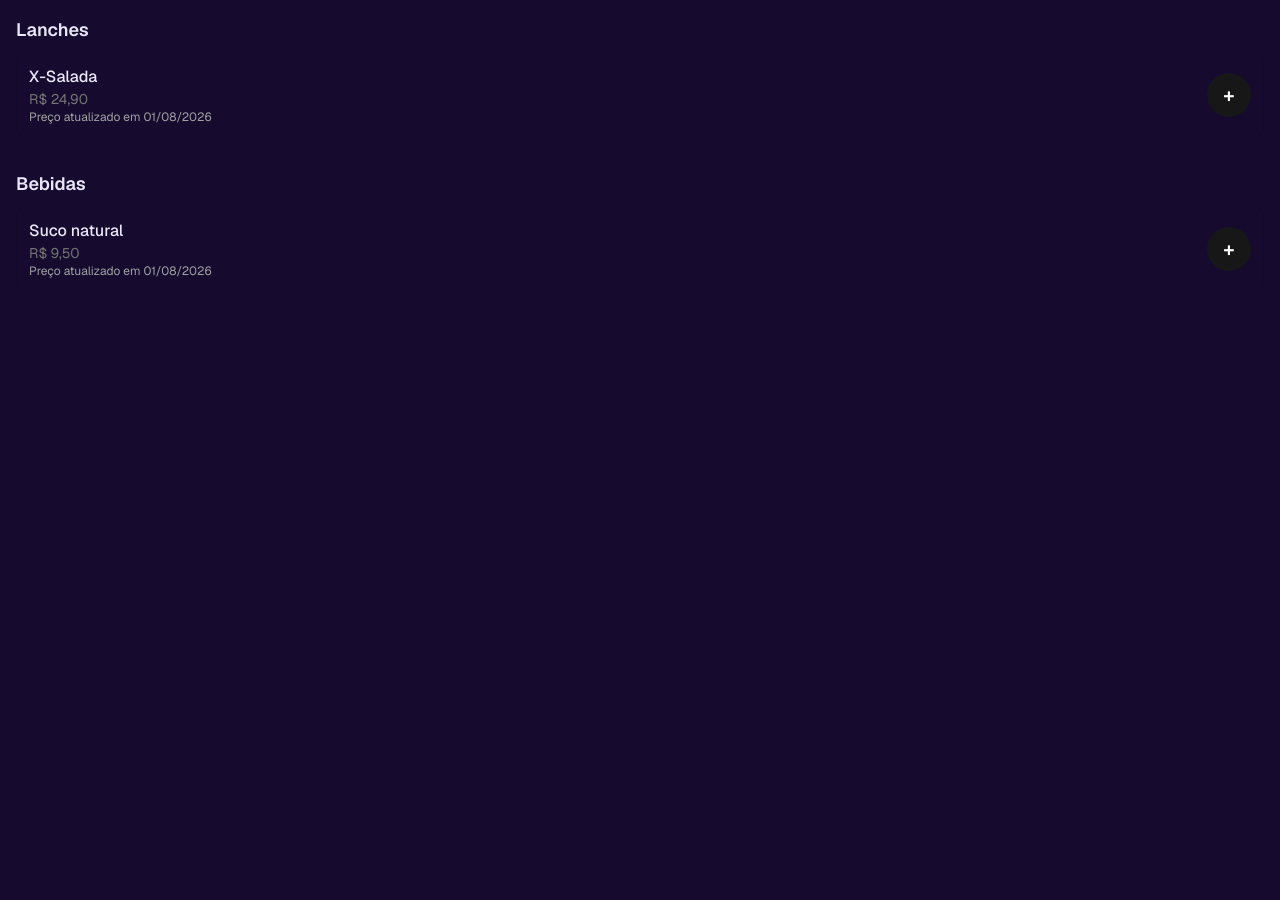
it: CardapioClient › remover até zero volta a mostrar o botão '+' e some da barra de resumo
The width and height of the screenshot is (1280, 900).
What coordinates should you click on to do the following:
click the button named "Adicionar X-Salada"
I would click on:
 (1229, 95)
Its box is [1207,73,1251,117].
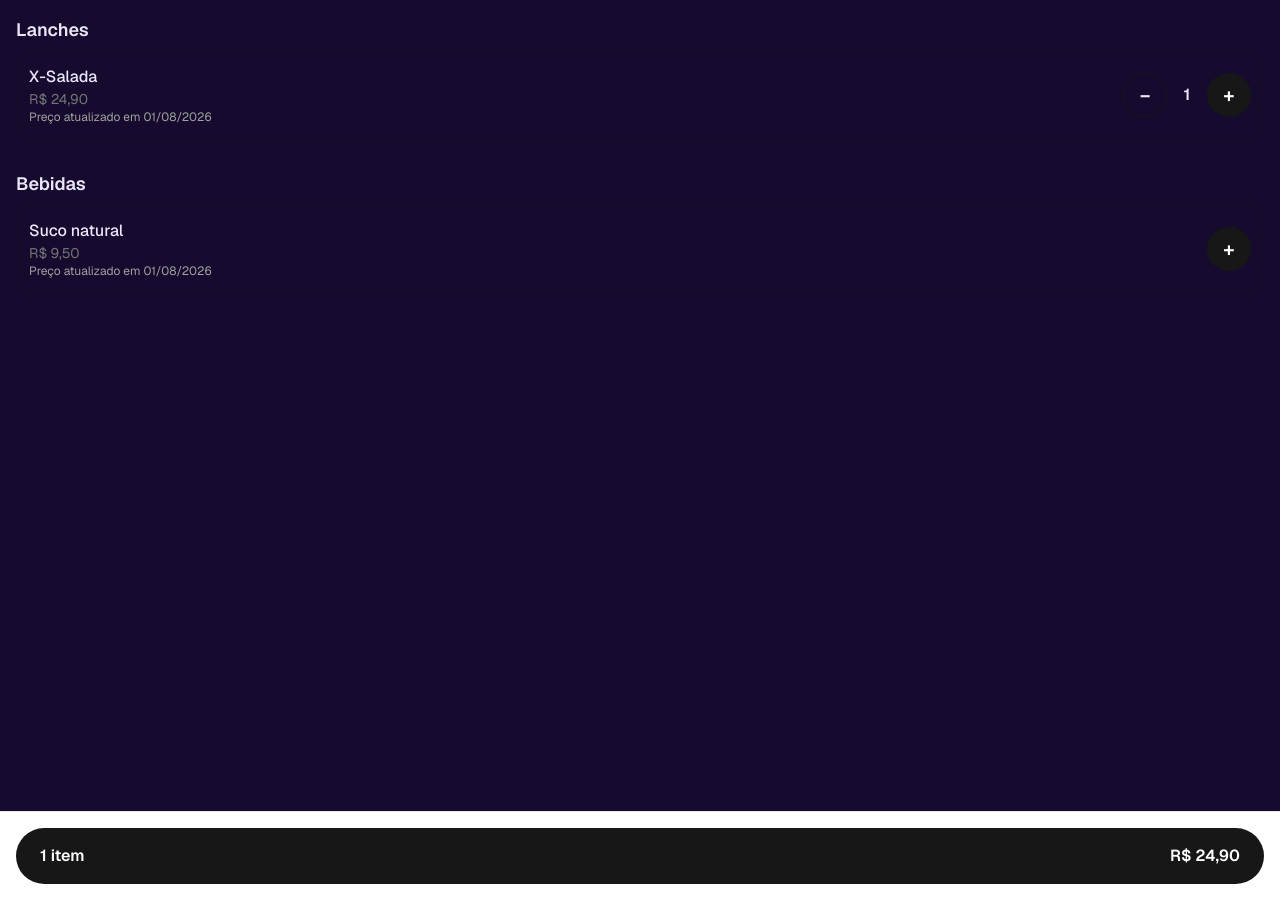
What coordinates should you click on to do the following:
click the button named "Remover X-Salada"
I would click on:
 (1145, 95)
Its box is [1123,73,1167,117].
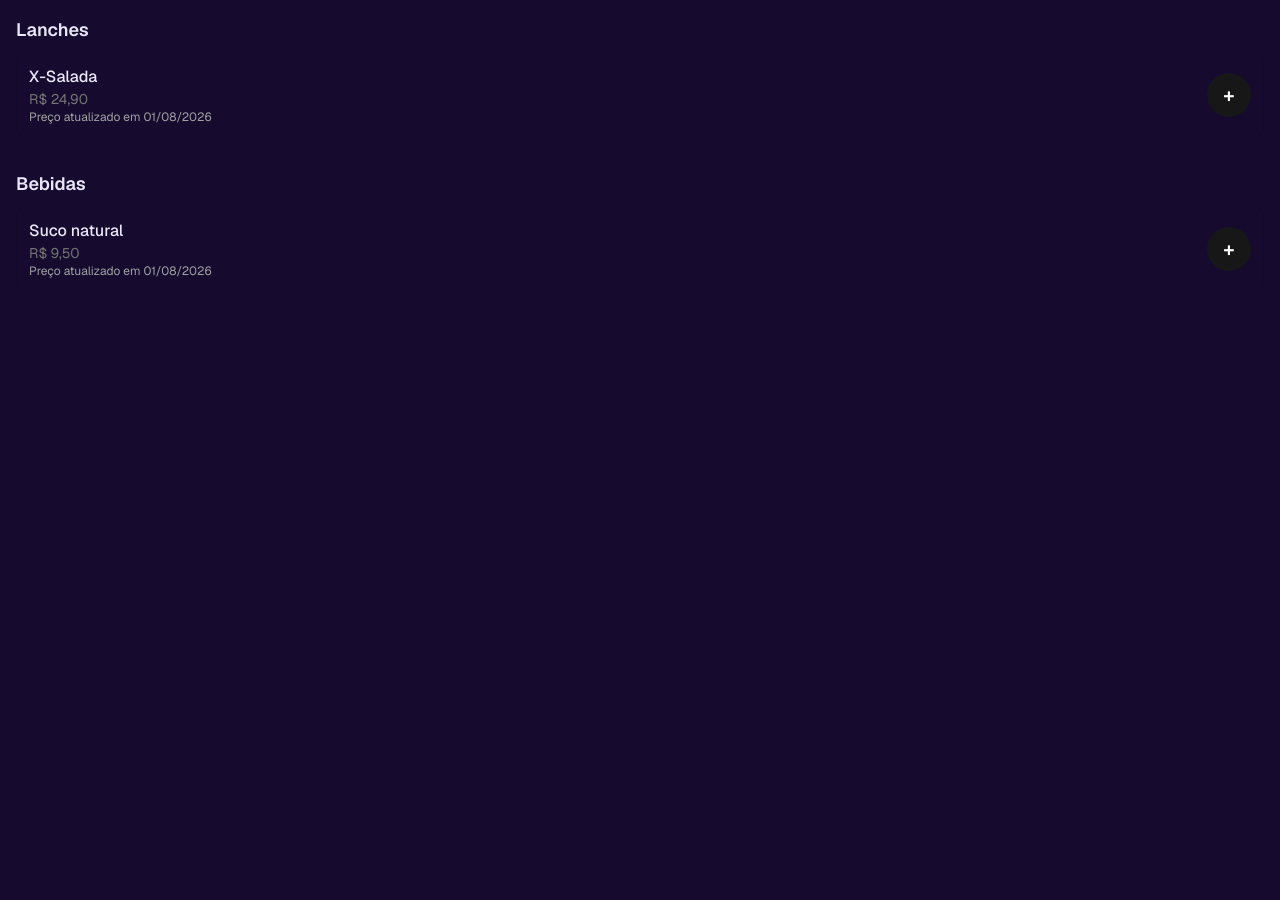
Expected: the button named "Adicionar X-Salada" is shown, [1207,73,1251,117]
Result: the button "item" is gone
